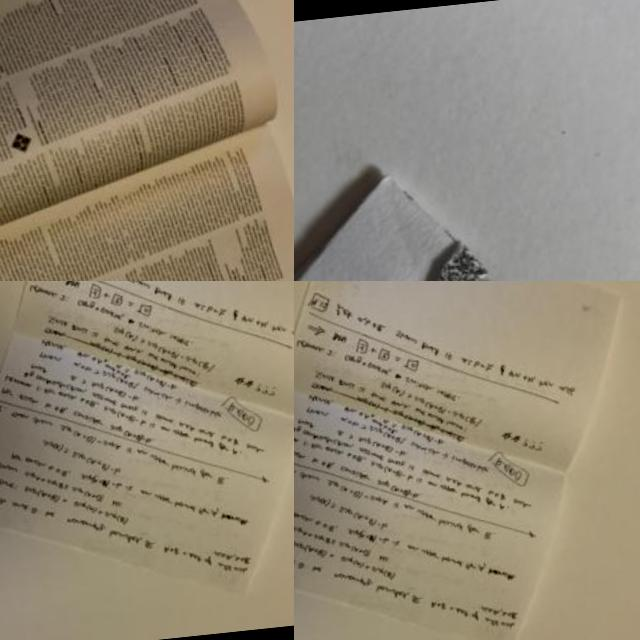papel: (294, 281, 640, 640), (0, 281, 294, 616), (0, 0, 294, 281), (294, 144, 640, 281)
